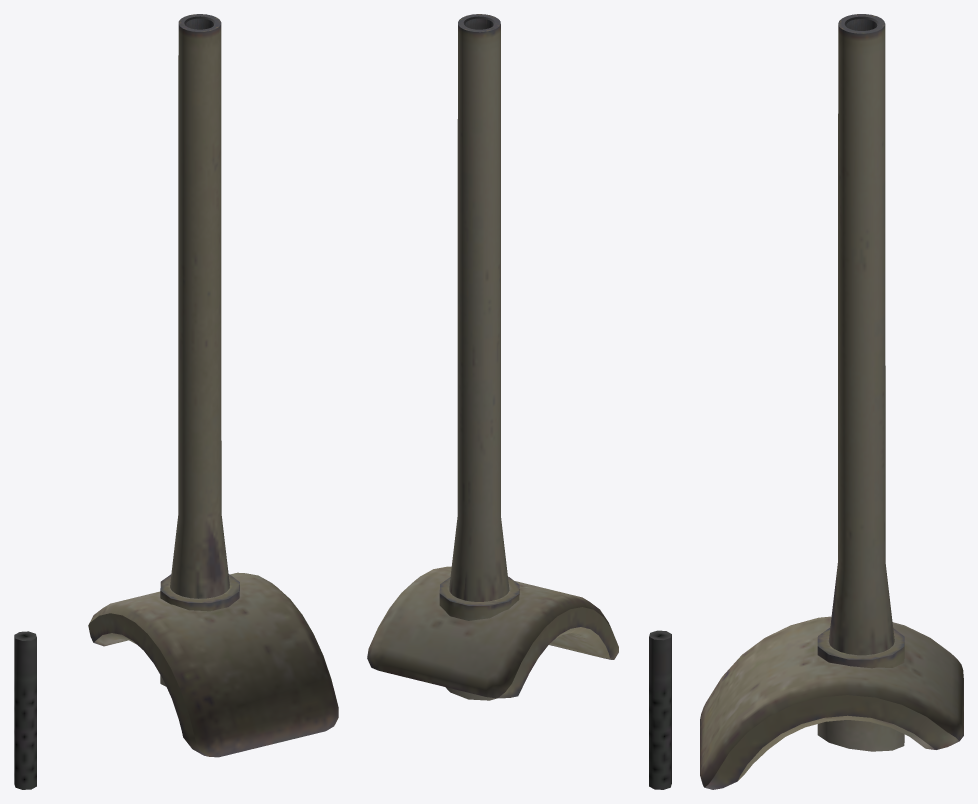
Rendered from Gun_06.glb.
The picture shows the model from 3 angles, left to right: view 1: azimuth 30°, elevation 25°; view 2: azimuth 150°, elevation 25°; view 3: azimuth 270°, elevation 25°; orthographic projection. The views are drawn at different scales.
Parts seen in each view (by area): view 1: set_0_group_0; view 2: set_0_group_0; view 3: set_0_group_0.
Boxes of the visible parts, <box> form: set_0_group_0: <box>14,14,338,789</box>; set_0_group_0: <box>367,14,671,789</box>; set_0_group_0: <box>700,14,963,789</box>.
Size of the model in its own units: 0.6121 by 1.61 by 0.4888.
1 material, 1 textured.
